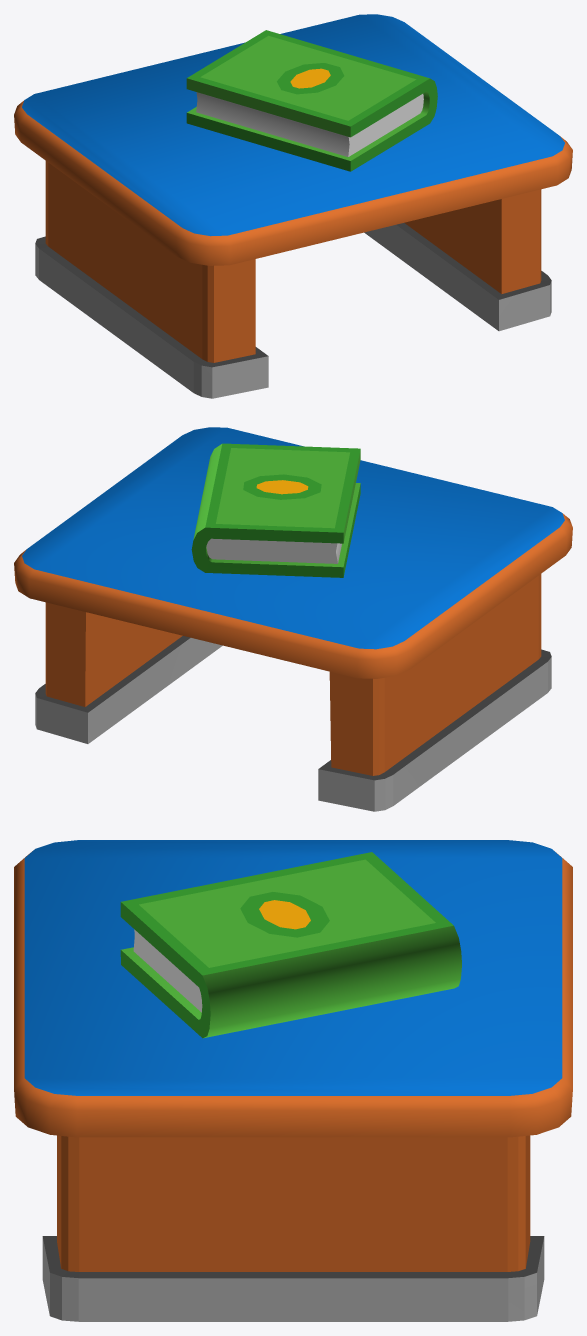
File: Office Table Small.fbx
The picture shows the model from 3 angles, top to bottom: view 1: azimuth 30°, elevation 25°; view 2: azimuth 150°, elevation 25°; view 3: azimuth 270°, elevation 25°; orthographic projection. The views are drawn at different scales.
Parts seen in each view (by area): view 1: Office Table Small; view 2: Office Table Small; view 3: Office Table Small.
Part boxes in pixels (x1,y1,x2,y2): Office Table Small: [14, 14, 572, 398]; Office Table Small: [14, 427, 572, 811]; Office Table Small: [14, 840, 572, 1321].
Size of the model in its own units: 7.65 by 4 by 6.82.
